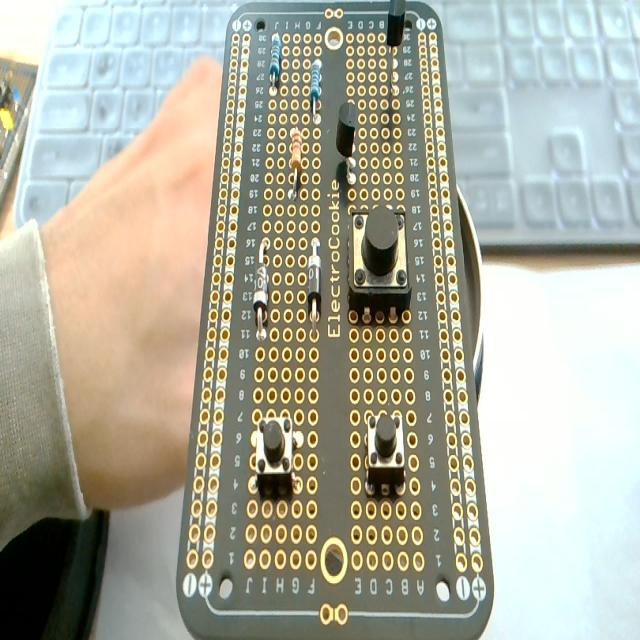diode: (253, 237, 269, 341), (307, 238, 322, 330)
resistor: (288, 128, 302, 200), (306, 59, 322, 122), (269, 31, 282, 91)
switch: (348, 206, 410, 325), (254, 413, 299, 499), (366, 410, 406, 496)
transistor: (377, 0, 414, 93), (335, 98, 358, 188)
